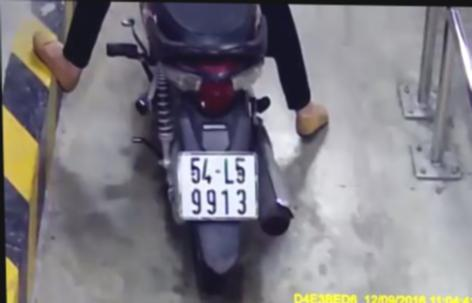License_Plate: (170, 146, 267, 231)
